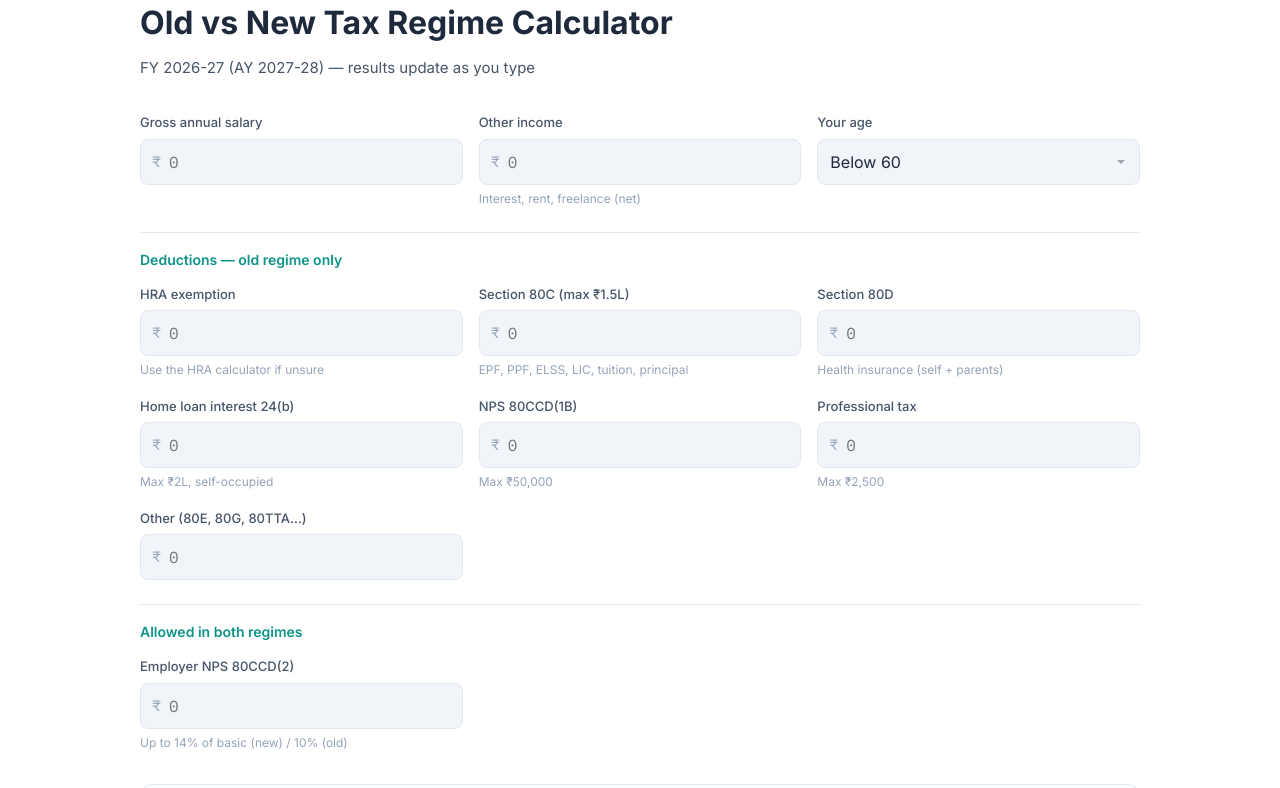
Test: OldVsNewRegimeComparison page › recommends the new regime with break-even advice for a plain salary
Type "1500000" into the number field with placeholder "0" below "Gross annual salary".
click(301, 162); type("1500000")  # box left=140, top=139, right=463, bottom=185
(page scrolled)
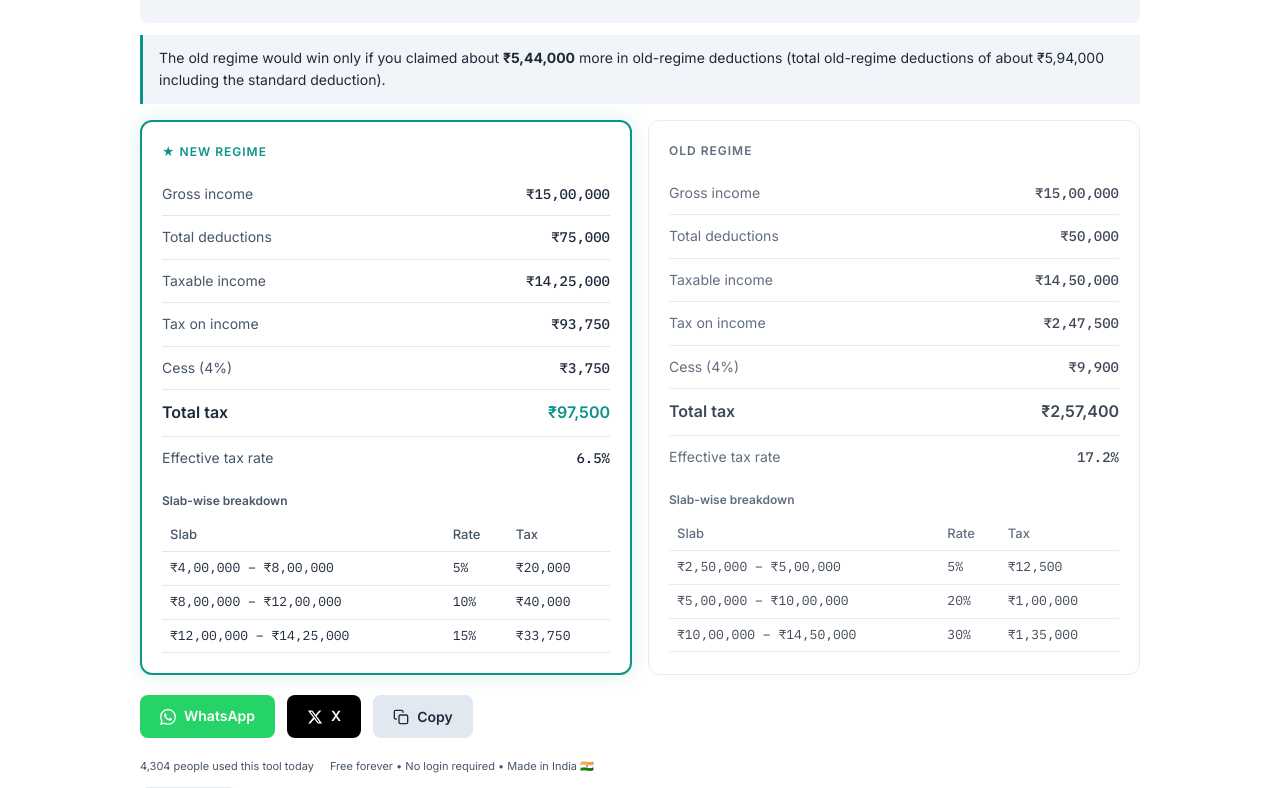
Expected: the element with test id "break-even" shows "old regime would win only if", left=159, top=49, right=503, bottom=66
Expected: the element with test id "regime-new" is shown, left=140, top=120, right=632, bottom=675
Expected: the element with test id "regime-old" is shown, left=648, top=120, right=1140, bottom=675
